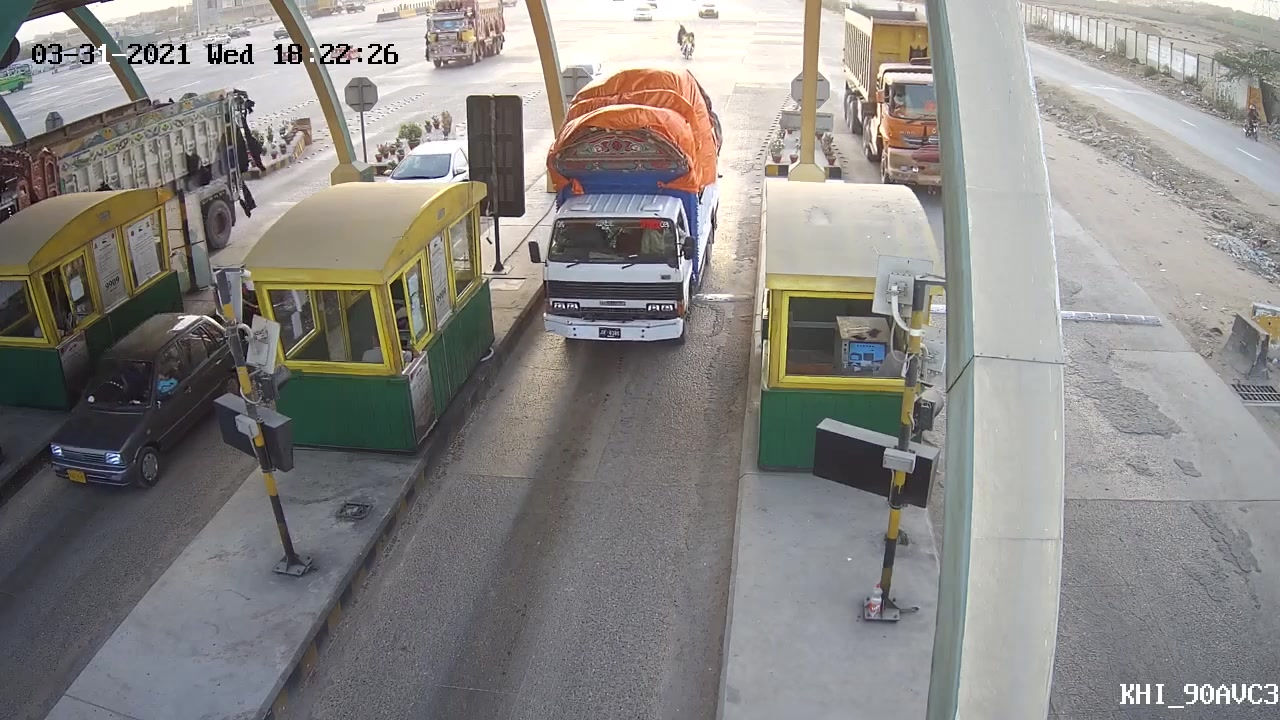F5: (525, 68, 730, 354)
